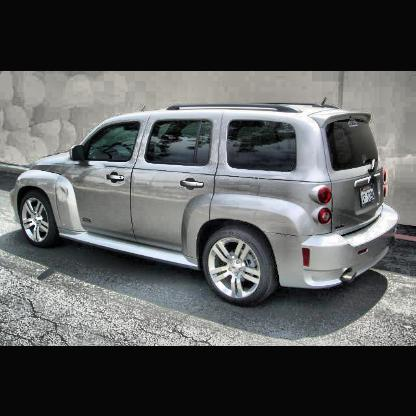Chevrolet HHR SS 2010: (10, 99, 400, 310)
